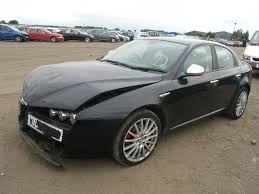Dent: (21, 78, 158, 129)
